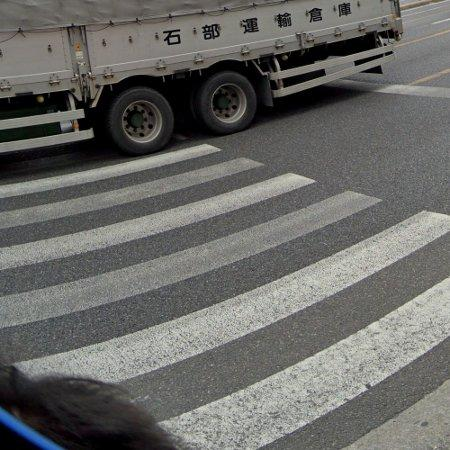crosswalks: (0, 140, 450, 448)
